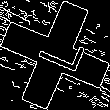L_NW: (26, 31, 84, 79)
